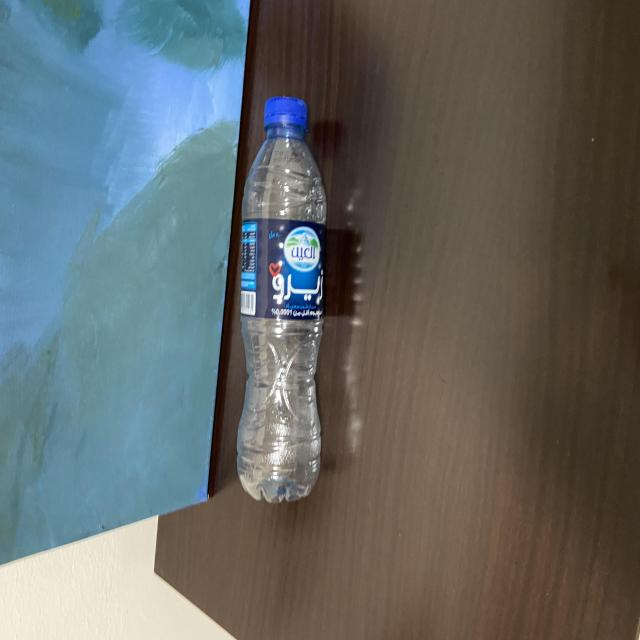bottle: (226, 84, 338, 518)
